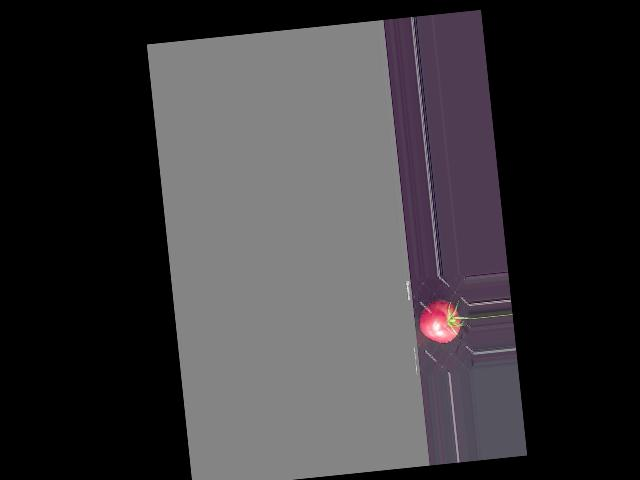tomato: (417, 298, 462, 345)
